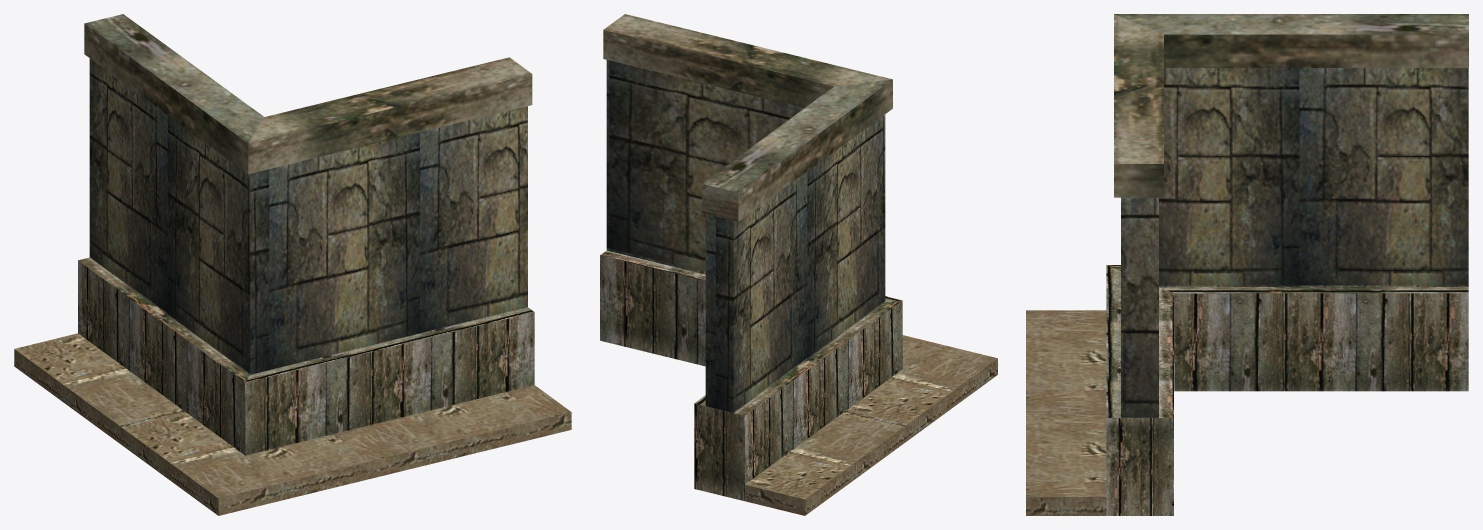
File: HouseWall04.glb
3 views of the same model, side by side, from view 1: azimuth 30°, elevation 25°; view 2: azimuth 150°, elevation 25°; view 3: azimuth 270°, elevation 25° (orthographic). The views are drawn at different scales.
Parts seen in each view (by area): view 1: HouseWall04; view 2: HouseWall04; view 3: HouseWall04.
Part boxes in pixels (x1,y1,x2,y2): HouseWall04: [14, 14, 571, 515]; HouseWall04: [600, 14, 997, 515]; HouseWall04: [1026, 14, 1468, 515].
Bounding box in the file's own units: 3.01 × 2.64 × 3.01.
Materials: 3 (3 with a texture image).
